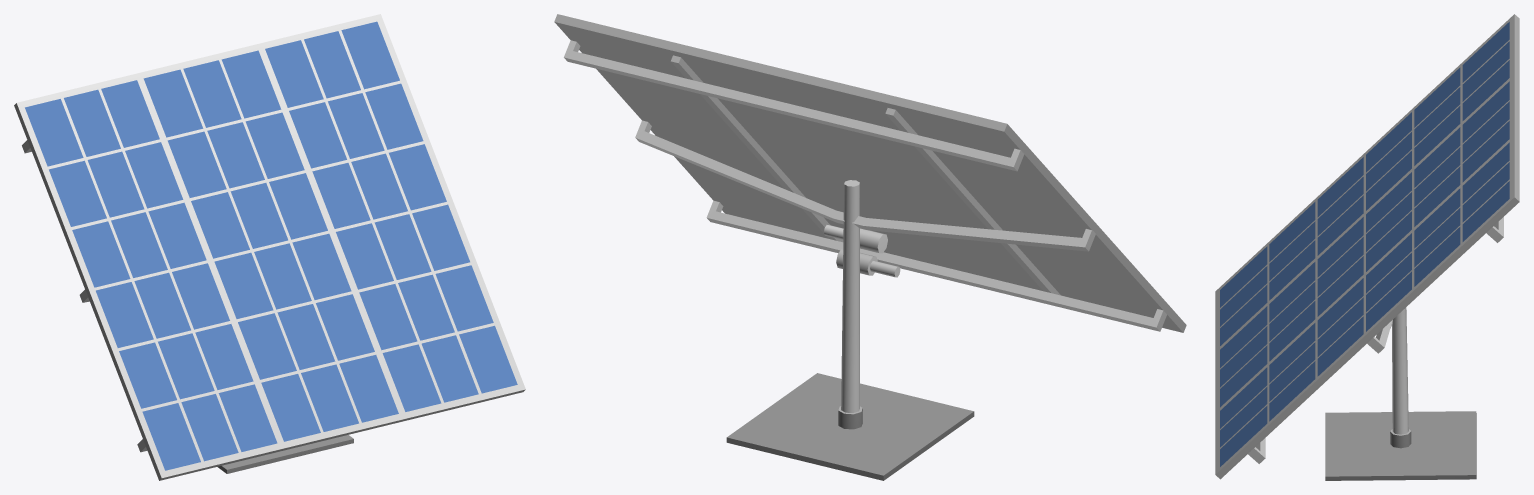
File: SolarPanel.glb
The picture shows the model from 3 angles, left to right: view 1: azimuth 30°, elevation 25°; view 2: azimuth 150°, elevation 25°; view 3: azimuth 270°, elevation 25°; orthographic projection. The views are drawn at different scales.
Parts seen in each view (by area): view 1: Plane_003, Cylinder; view 2: Plane_003, Cylinder; view 3: Plane_003, Cylinder.
Boxes of the visible parts, x1,y1,x2,y2 form: Plane_003: (14,14,525,480); Cylinder: (217,435,353,473); Plane_003: (554,14,1186,332); Cylinder: (726,180,974,480); Plane_003: (1215,14,1519,479); Cylinder: (1325,307,1476,480).
Size of the model in its own units: 353 by 309 by 248.
2 materials, 2 textured.
